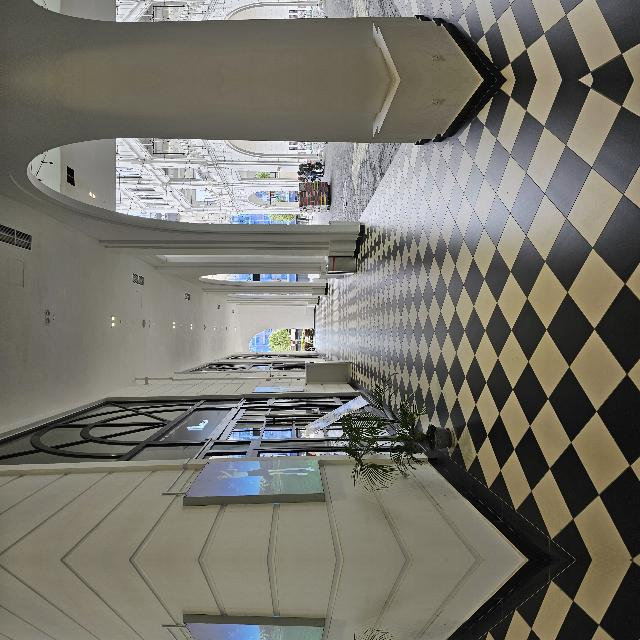obstacle: (90, 402, 156, 532), (90, 588, 156, 640), (169, 380, 203, 434), (284, 396, 306, 438)
